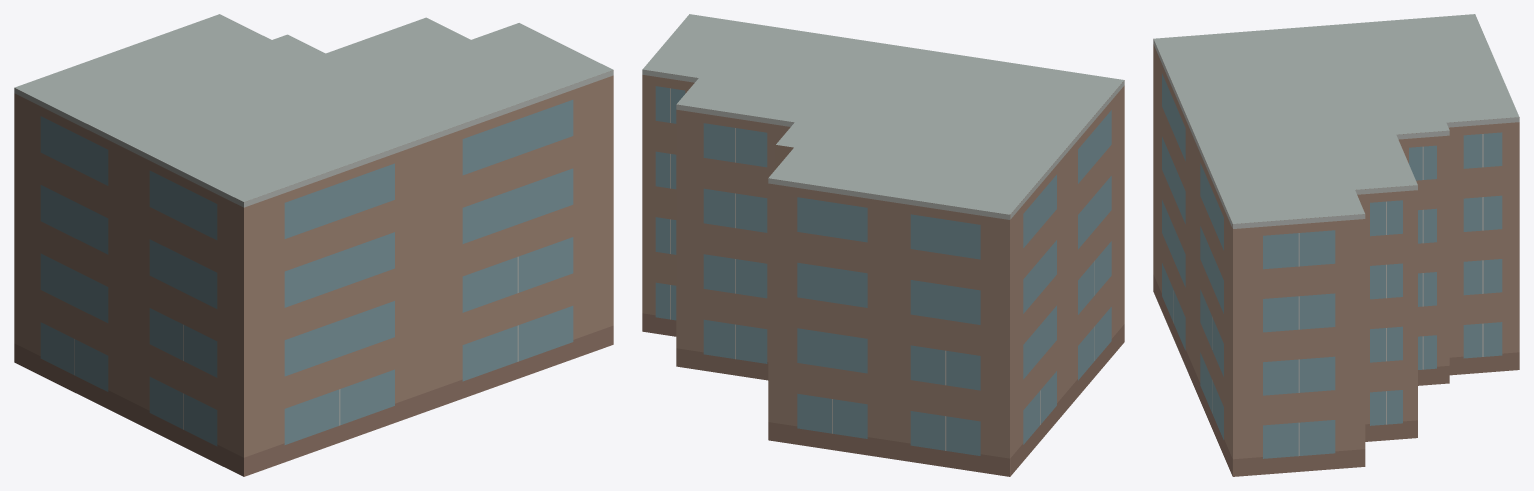
The model's file is residential-af633ec0-ad80-49c4-8e99-fe10ac93e955.glb.
The picture shows the model from 3 angles, left to right: view 1: azimuth 30°, elevation 25°; view 2: azimuth 150°, elevation 25°; view 3: azimuth 270°, elevation 25°; orthographic projection. The views are drawn at different scales.
Visible parts, largest first — view 1: residential-af633ec0-ad80-49c4-8e99-fe10ac93e955.tmp; view 2: residential-af633ec0-ad80-49c4-8e99-fe10ac93e955.tmp; view 3: residential-af633ec0-ad80-49c4-8e99-fe10ac93e955.tmp.
Part boxes in pixels (<box>): residential-af633ec0-ad80-49c4-8e99-fe10ac93e955.tmp: <box>14,14,613,476</box>; residential-af633ec0-ad80-49c4-8e99-fe10ac93e955.tmp: <box>642,14,1124,476</box>; residential-af633ec0-ad80-49c4-8e99-fe10ac93e955.tmp: <box>1153,14,1519,476</box>.
Bounding box in the file's own units: 21.75 × 12.2 × 16.02.
